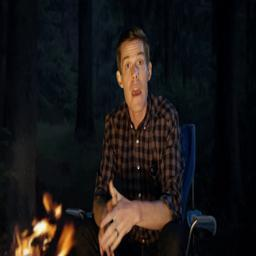fire: (13, 193, 73, 256), (58, 224, 74, 256)
